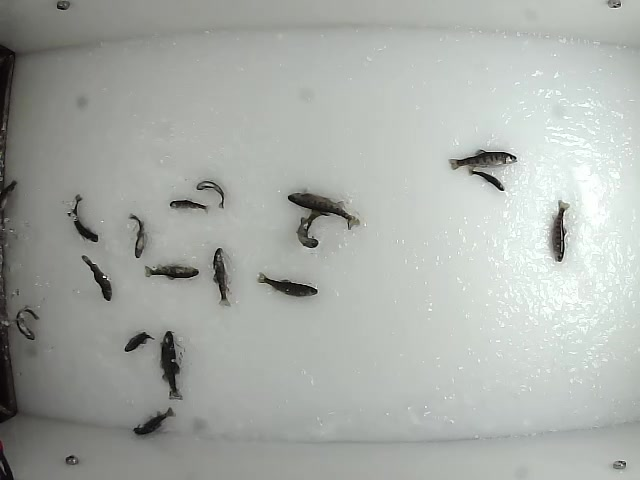fish: (283, 188, 362, 230), (158, 328, 187, 400), (446, 146, 518, 172), (256, 270, 319, 299), (69, 188, 101, 245), (77, 251, 113, 301), (294, 207, 333, 250), (547, 200, 572, 264), (210, 245, 234, 309), (133, 403, 174, 437), (143, 262, 200, 282), (194, 178, 225, 212), (12, 306, 40, 342), (466, 168, 507, 191), (129, 213, 148, 260), (121, 330, 156, 352), (168, 198, 211, 213)
